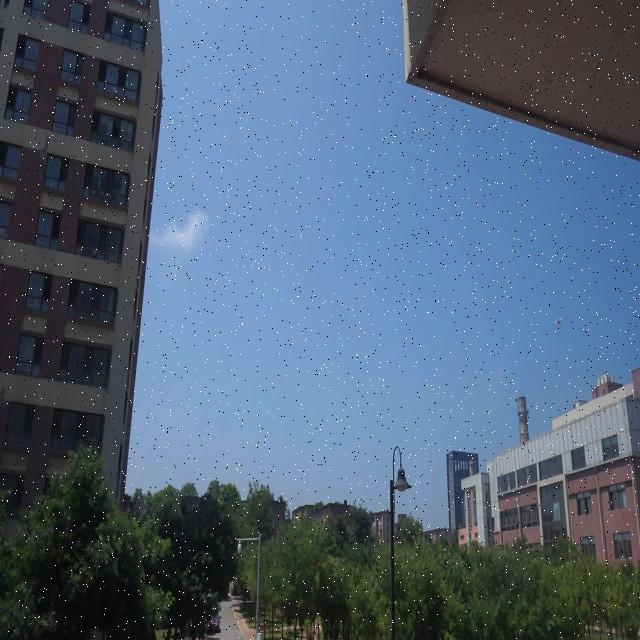UAV: (555, 318, 562, 326)
